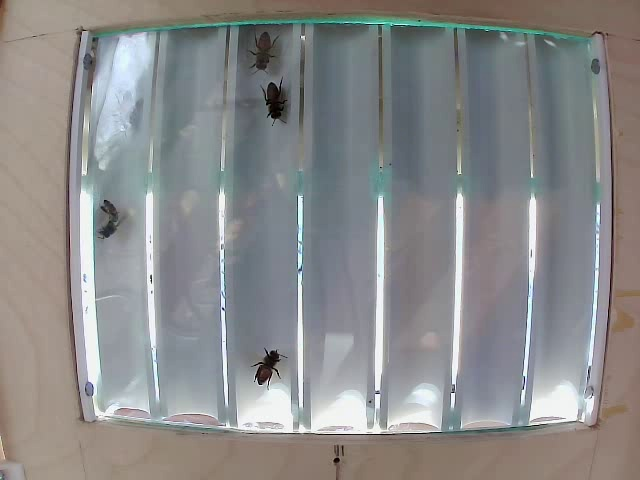bee: (93, 199, 136, 254), (245, 337, 290, 388), (256, 80, 298, 133), (239, 35, 283, 74)
